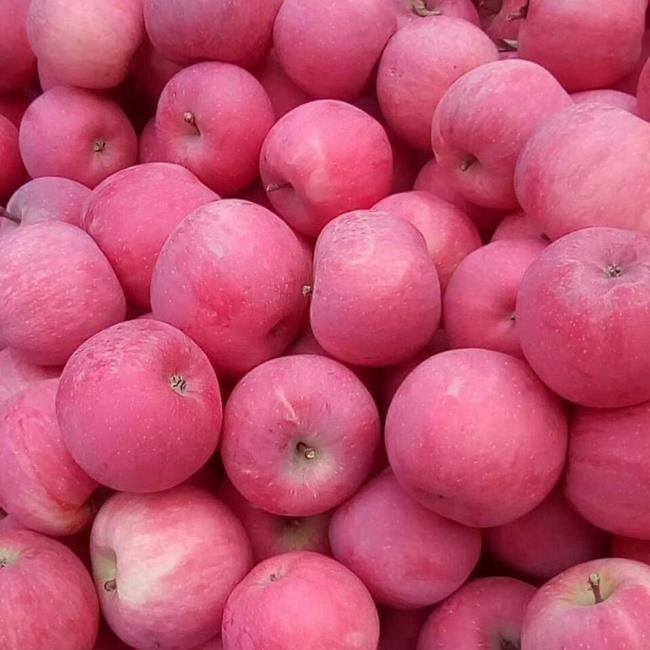apple: (382, 347, 568, 523), (52, 316, 227, 491), (152, 195, 310, 369), (87, 490, 250, 648), (223, 356, 382, 514), (514, 225, 643, 409), (426, 57, 573, 210), (328, 465, 481, 607), (309, 208, 443, 364), (256, 98, 395, 235), (515, 100, 643, 241), (3, 222, 127, 361), (154, 61, 279, 193), (220, 550, 378, 645), (20, 85, 138, 181)
